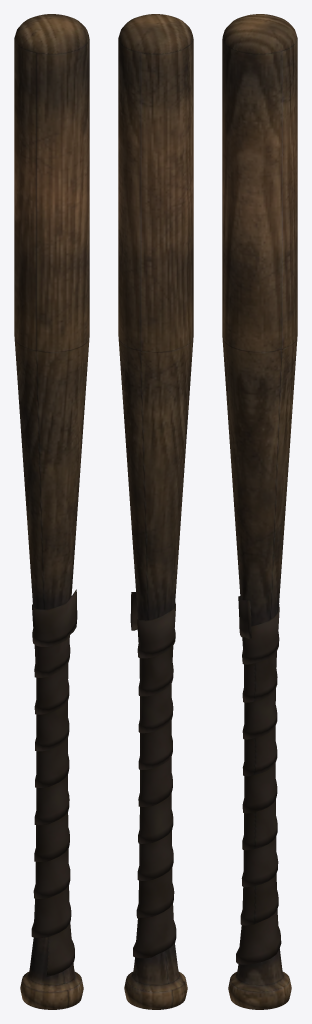
Rendered from baseball_bat.ff2cb5aee5.glb.
3 renders of one model, left to right at view 1: azimuth 30°, elevation 25°; view 2: azimuth 210°, elevation 25°; view 3: azimuth 270°, elevation 25°, orthographic.
Parts seen in each view (by area): view 1: baseball_bat; view 2: baseball_bat; view 3: baseball_bat.
Boxes of the visible parts, <box> form: baseball_bat: <box>14,14,89,1009</box>; baseball_bat: <box>118,14,193,1009</box>; baseball_bat: <box>222,14,297,1009</box>.
Size of the model in its own units: 0.0635 by 0.9132 by 0.0635.
Materials: 1 (1 with a texture image).
